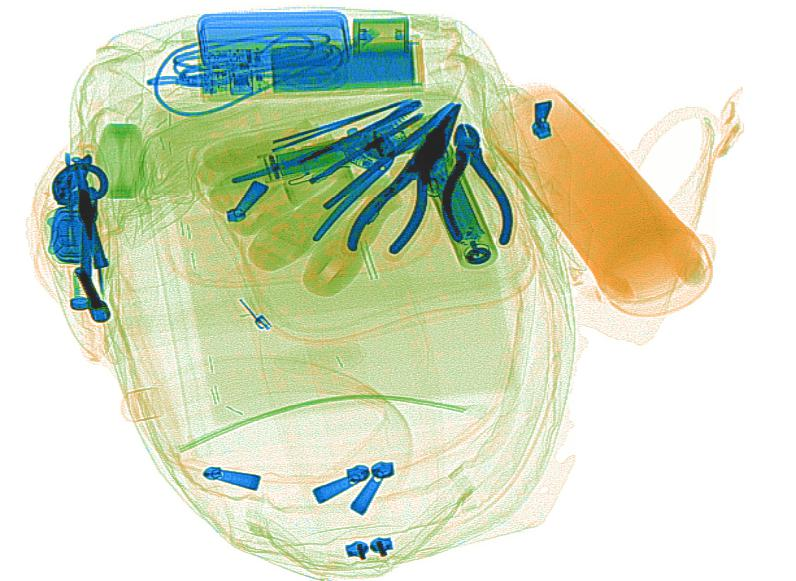battery: (433, 172, 484, 241), (272, 139, 350, 178)
